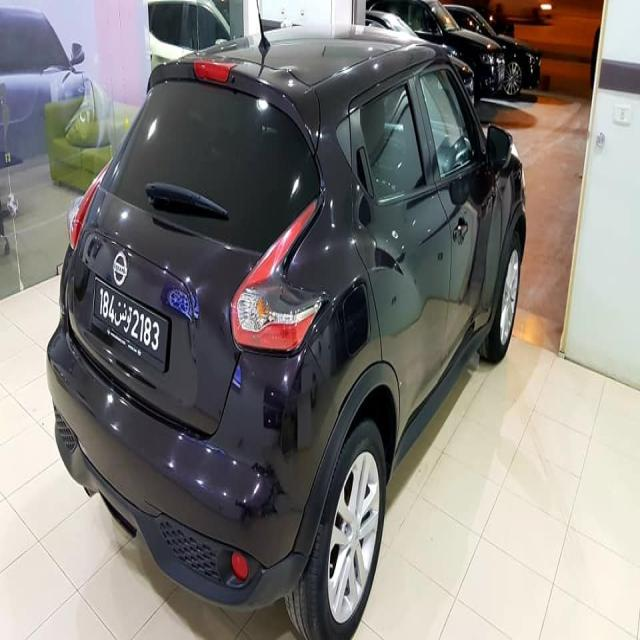LP: (93, 281, 168, 367)
